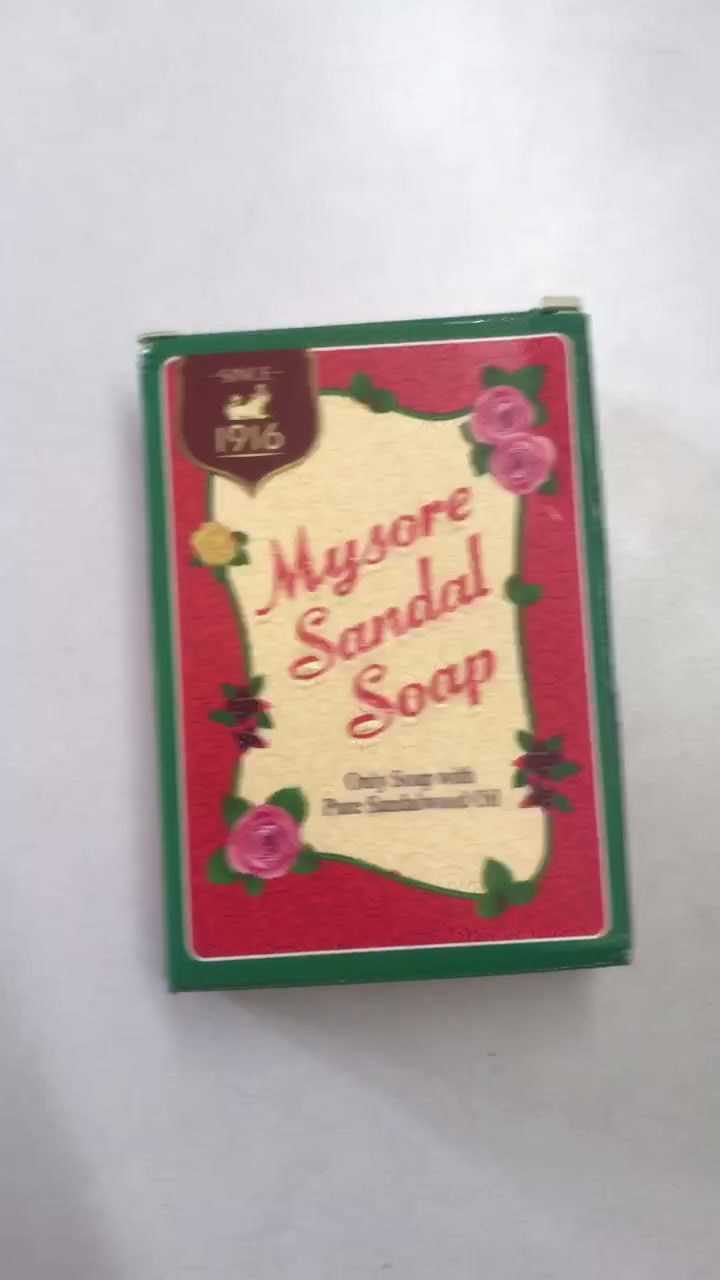mysore sandal soap: (141, 307, 634, 991)
